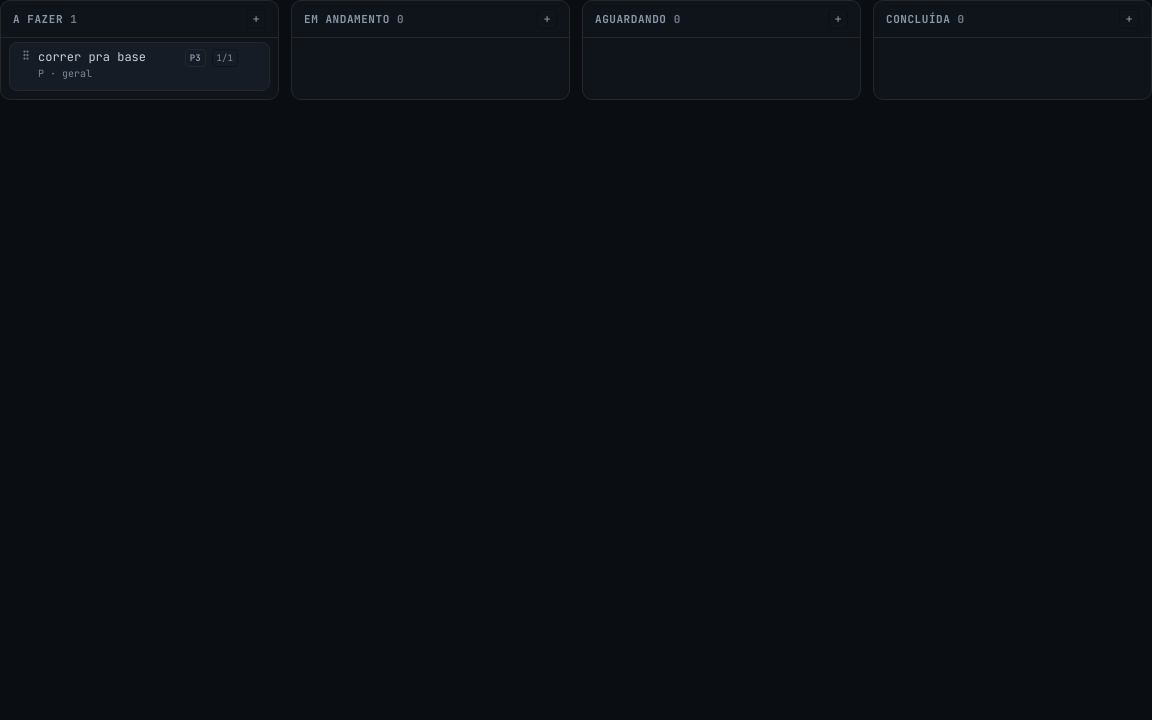
Test: Kanban › contador de subs abre o modal com foco na seção de sub-tarefas
Click the button named "sub-tarefas 1/1" at (225, 58), box [212,49,238,67]
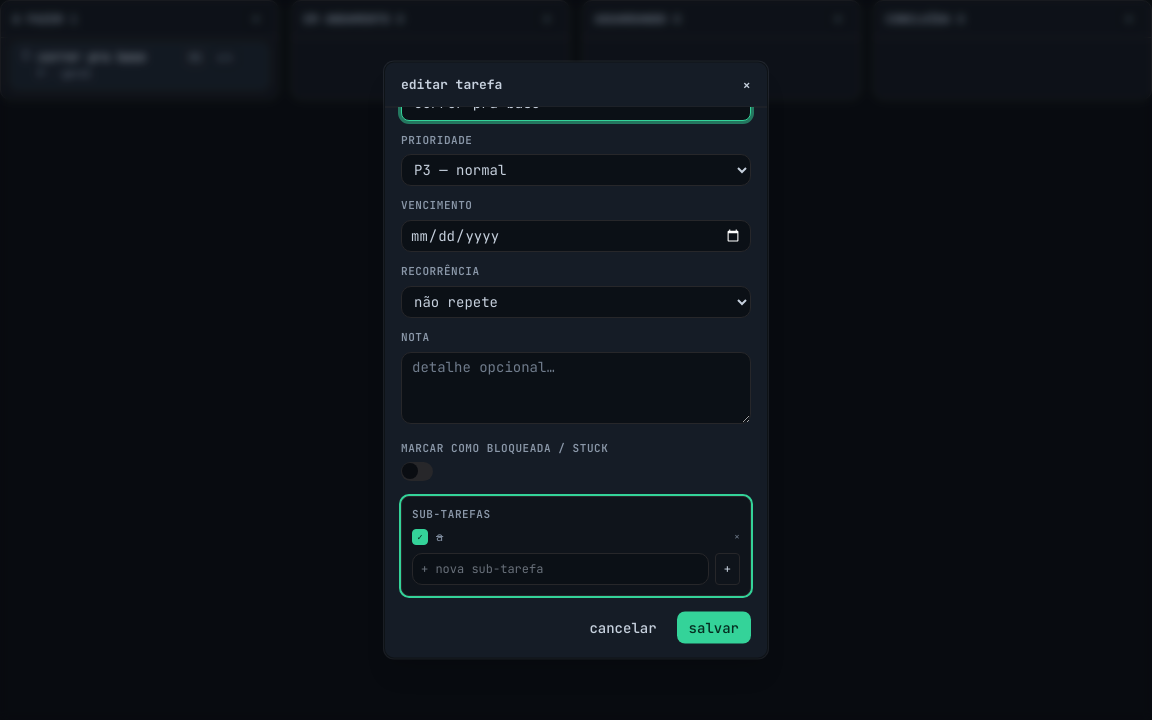
Expected: the dialog "editar tarefa" is shown, [384,62,768,658]
